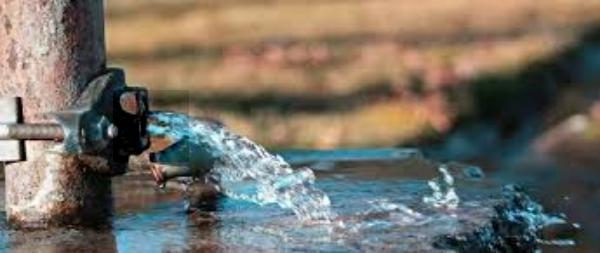water: (113, 90, 189, 162)
